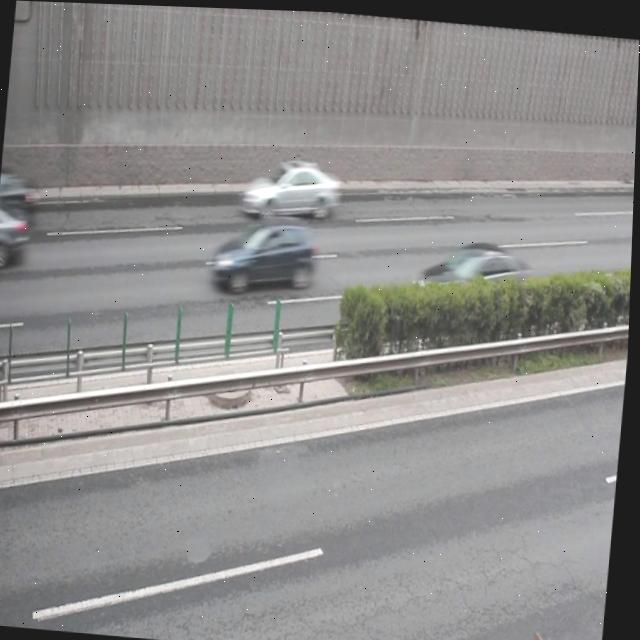car: (416, 230, 535, 327), (209, 210, 321, 295), (240, 152, 344, 224), (0, 194, 34, 271), (0, 155, 40, 220)
